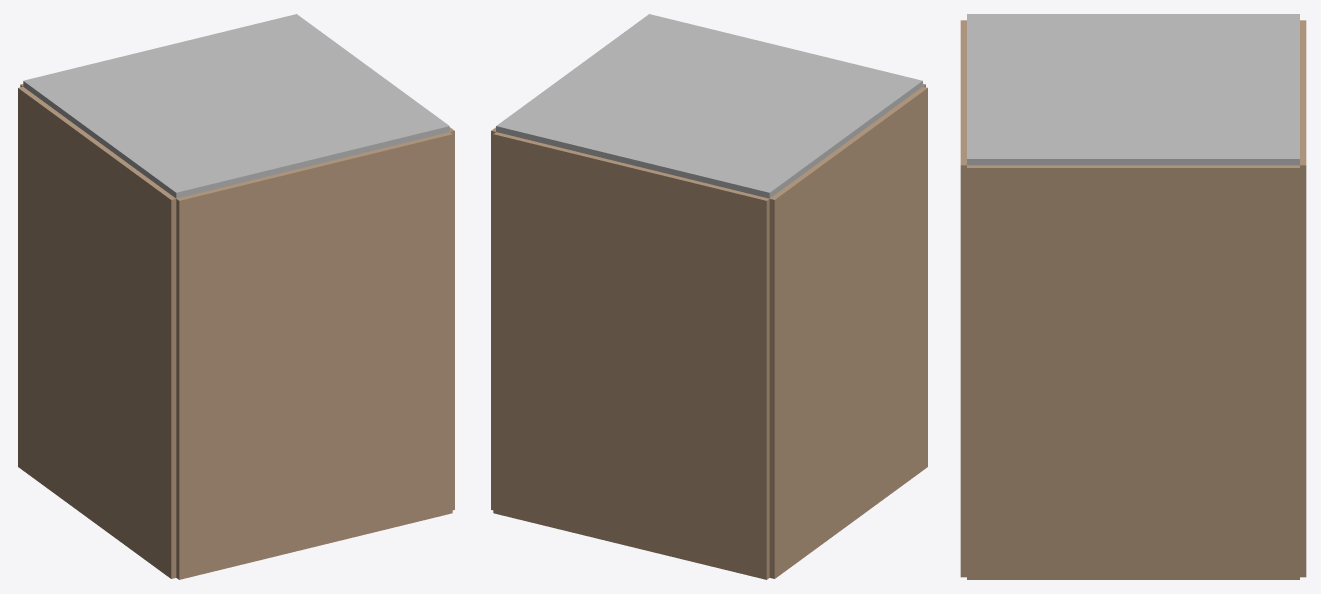
File: grosvenor_townhouse_georgian_s42.glb
3 views of the same model, side by side, from view 1: azimuth 30°, elevation 25°; view 2: azimuth 150°, elevation 25°; view 3: azimuth 270°, elevation 25° (orthographic). The views are drawn at different scales.
Visible parts, largest first — view 1: ceiling_slab, floor_3_wall_1, floor_-1_wall_1, floor_2_wall_1, floor_1_wall_1, floor_0_wall_1, floor_3_wall_2, floor_0_wall_2, floor_1_wall_2, floor_2_wall_2, floor_-1_wall_2; view 2: ceiling_slab, floor_3_wall_3, floor_-1_wall_3, floor_2_wall_3, floor_1_wall_3, floor_0_wall_3, floor_3_wall_2, floor_0_wall_2, floor_1_wall_2, floor_-1_wall_2, floor_2_wall_2; view 3: ceiling_slab, floor_3_wall_0, floor_-1_wall_0, floor_0_wall_0, floor_1_wall_0, floor_2_wall_0, floor_3_wall_1, floor_3_wall_3, floor_2_wall_1, floor_2_wall_3, floor_1_wall_1, floor_1_wall_3 (+4 smaller).
Part boxes in pixels (x1=…): ceiling_slab: x1=23, y1=14, x2=449, y2=198; floor_3_wall_1: x1=176, y1=132, x2=452, y2=276; floor_-1_wall_1: x1=176, y1=437, x2=452, y2=579; floor_2_wall_1: x1=176, y1=210, x2=452, y2=352; floor_1_wall_1: x1=176, y1=286, x2=452, y2=428; floor_0_wall_1: x1=176, y1=361, x2=452, y2=503; floor_3_wall_2: x1=18, y1=86, x2=176, y2=275; floor_0_wall_2: x1=18, y1=315, x2=176, y2=503; floor_1_wall_2: x1=18, y1=240, x2=176, y2=427; floor_2_wall_2: x1=18, y1=164, x2=176, y2=351; floor_-1_wall_2: x1=18, y1=391, x2=176, y2=578; ceiling_slab: x1=496, y1=14, x2=922, y2=198; floor_3_wall_3: x1=493, y1=132, x2=769, y2=276; floor_-1_wall_3: x1=493, y1=437, x2=769, y2=579; floor_2_wall_3: x1=493, y1=210, x2=769, y2=352; floor_1_wall_3: x1=493, y1=286, x2=769, y2=428; floor_0_wall_3: x1=493, y1=361, x2=769, y2=503; floor_3_wall_2: x1=769, y1=86, x2=927, y2=275; floor_0_wall_2: x1=769, y1=315, x2=927, y2=503; floor_1_wall_2: x1=769, y1=240, x2=927, y2=427; floor_-1_wall_2: x1=769, y1=391, x2=927, y2=578; floor_2_wall_2: x1=769, y1=164, x2=927, y2=351; ceiling_slab: x1=967, y1=14, x2=1299, y2=165; floor_3_wall_0: x1=967, y1=165, x2=1299, y2=250; floor_-1_wall_0: x1=967, y1=497, x2=1299, y2=579; floor_0_wall_0: x1=967, y1=415, x2=1299, y2=497; floor_1_wall_0: x1=967, y1=333, x2=1299, y2=415; floor_2_wall_0: x1=967, y1=250, x2=1299, y2=332; floor_3_wall_1: x1=960, y1=20, x2=966, y2=247; floor_3_wall_3: x1=1300, y1=20, x2=1306, y2=247; floor_2_wall_1: x1=960, y1=247, x2=966, y2=330; floor_2_wall_3: x1=1300, y1=247, x2=1306, y2=330; floor_1_wall_1: x1=960, y1=330, x2=966, y2=412; floor_1_wall_3: x1=1300, y1=330, x2=1306, y2=412.
Size of the model in its own units: 12.58 by 18.34 by 12.22.
